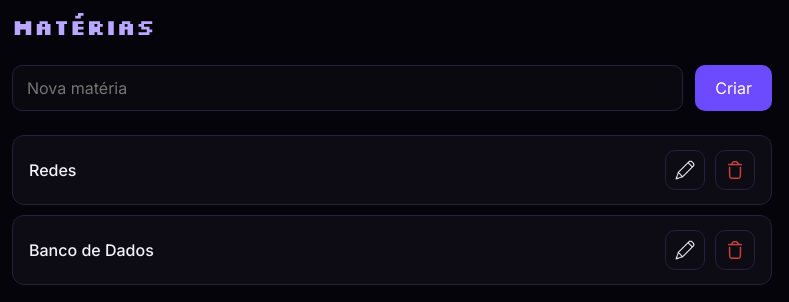
Test: SubjectsPage › clicar na matéria abre o detalhe
The width and height of the screenshot is (789, 302).
What coordinates should you click on to do the following:
click the link "Redes"
I would click on:
 (53, 170)
Its box is [29,160,76,180].
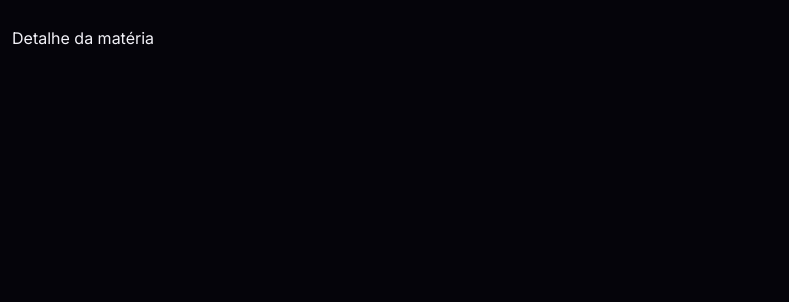
Check: the text "Detalhe da matéria" is shown, box [12,28,154,48]
